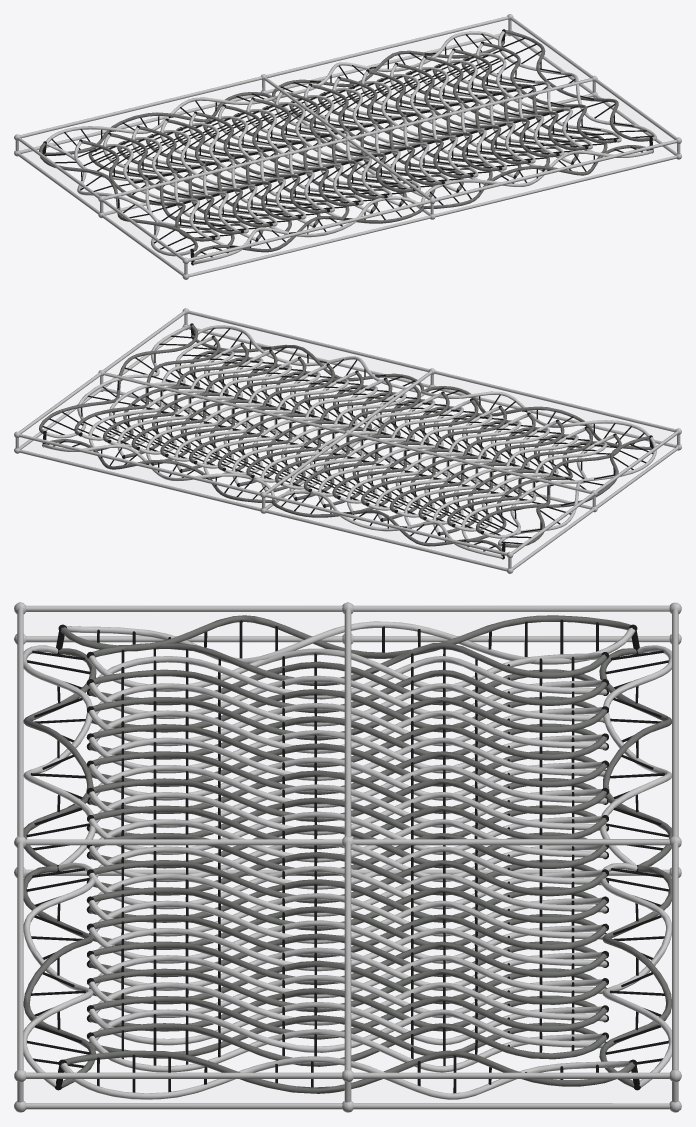
The model's file is merged-GRY-og-v84.glb.
The picture shows the model from 3 angles, top to bottom: view 1: azimuth 30°, elevation 25°; view 2: azimuth 150°, elevation 25°; view 3: azimuth 270°, elevation 25°; orthographic projection. The views are drawn at different scales.
Parts seen in each view (by area): view 1: 4; view 2: 4; view 3: 4.
Part boxes in pixels (bbox=[...]): 4: bbox=[14, 14, 681, 279]; 4: bbox=[14, 308, 681, 573]; 4: bbox=[14, 602, 681, 1112].
Size of the model in its own units: 6.95 by 0.2899 by 4.15.
Materials: 1 (1 with a texture image).
